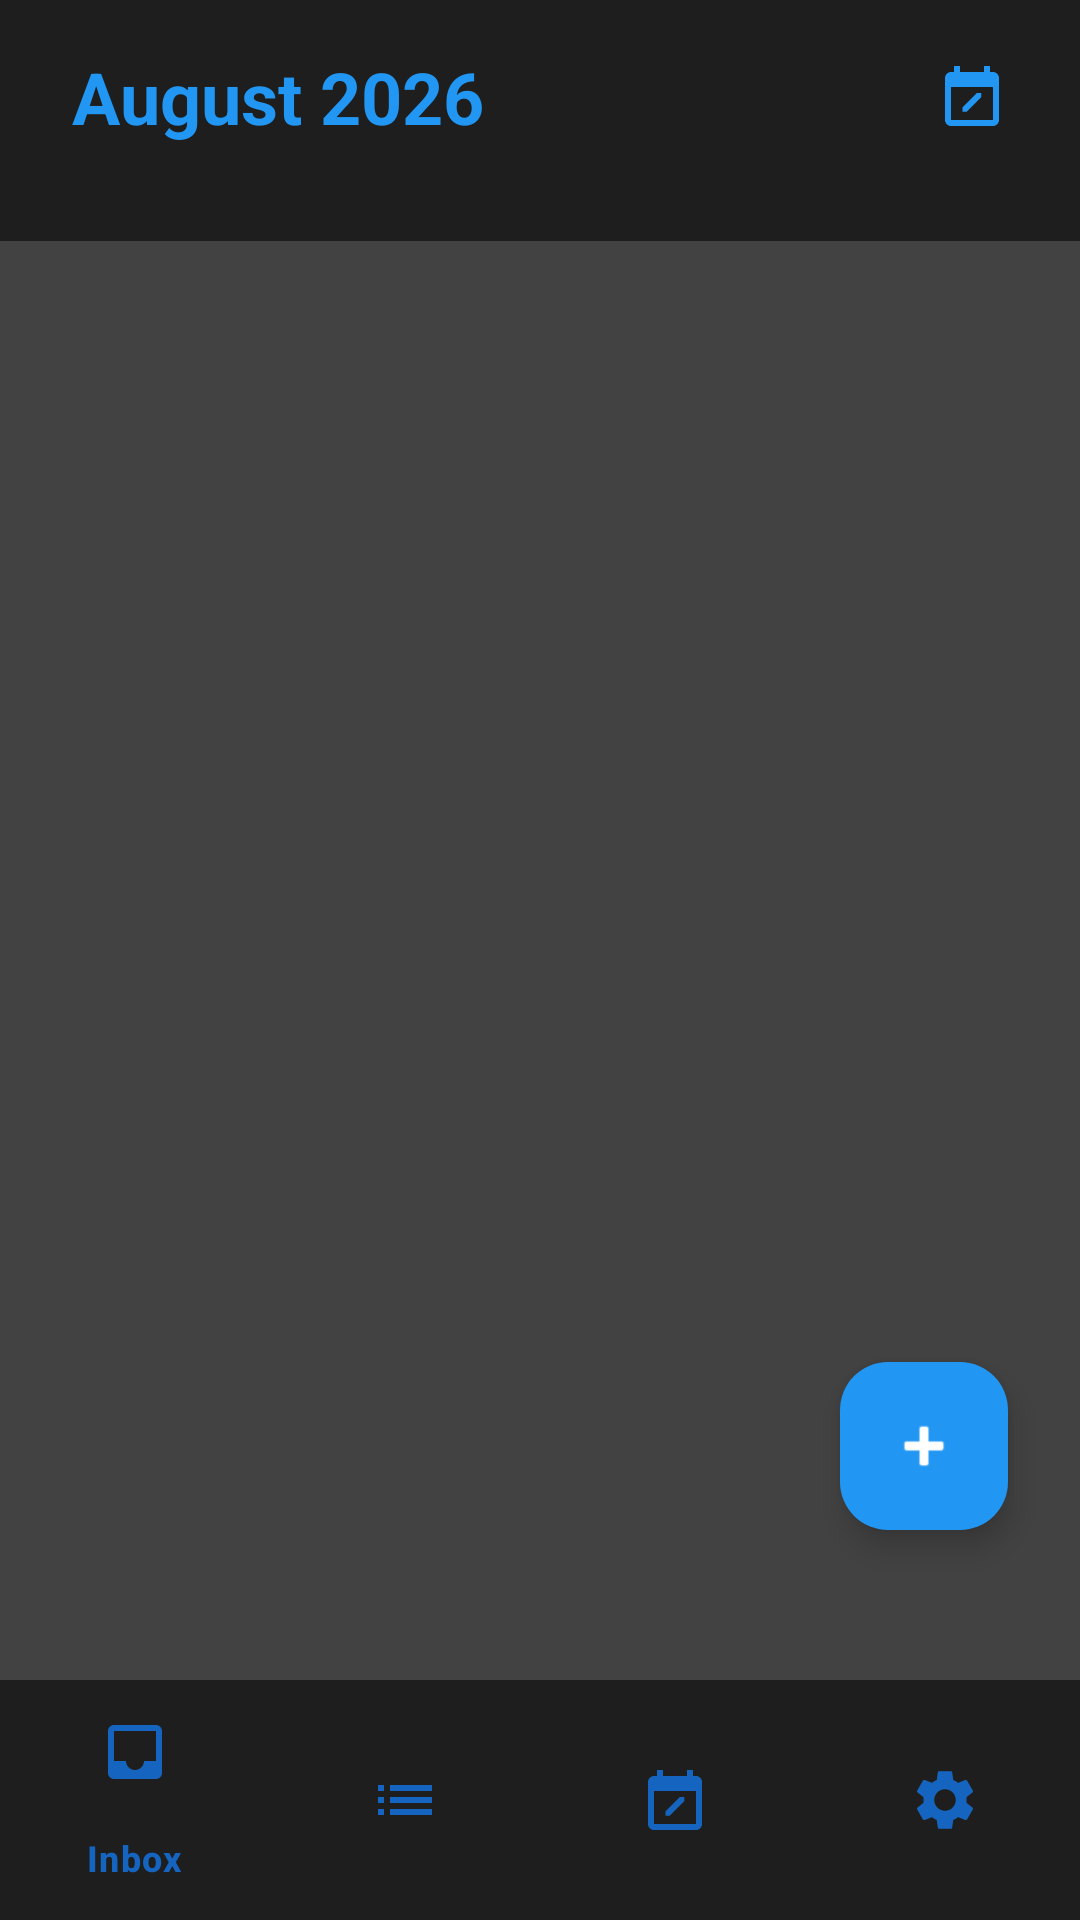

Point at icon controls on the screen. Image size 1080×1920, points as (x=x, y=y).
calendar edit: (x=972, y=96)
